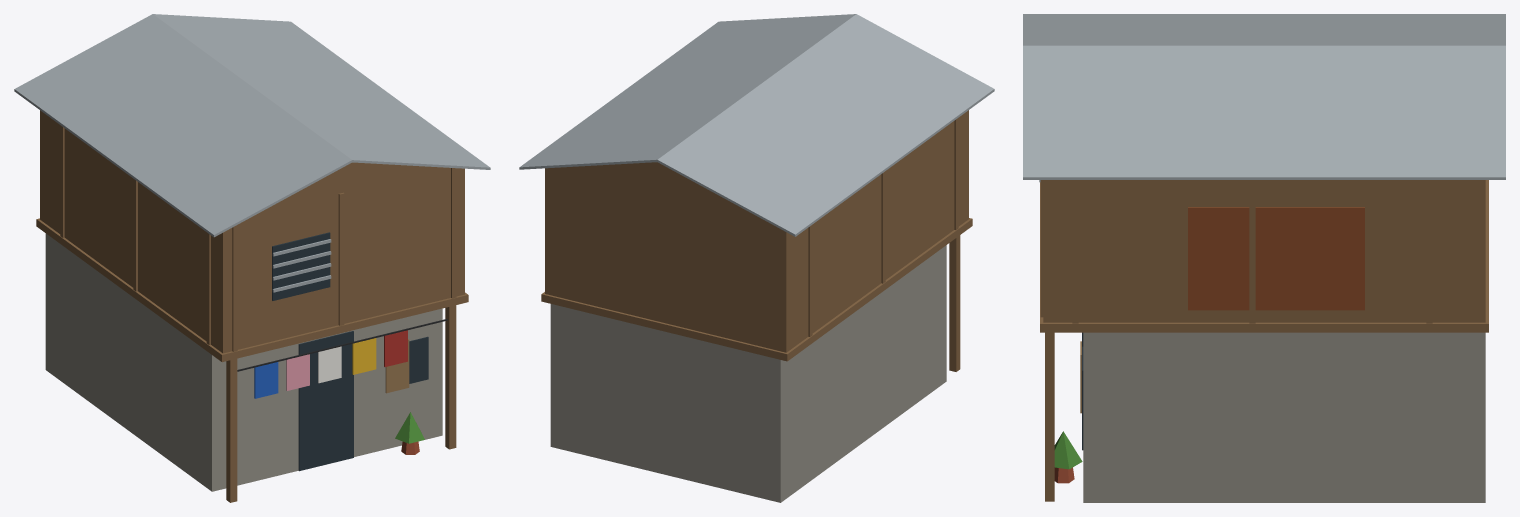
File: BAY_I_Shanty2F_P.glb
3 renders of one model, left to right at view 1: azimuth 30°, elevation 25°; view 2: azimuth 150°, elevation 25°; view 3: azimuth 270°, elevation 25°, orthographic. The views are drawn at different scales.
Visible parts, largest first — view 1: BAY_I_Shanty2F_P; view 2: BAY_I_Shanty2F_P; view 3: BAY_I_Shanty2F_P.
Boxes of the visible parts, x1,y1,x2,y2 form: BAY_I_Shanty2F_P: (14, 14, 490, 502); BAY_I_Shanty2F_P: (519, 14, 994, 502); BAY_I_Shanty2F_P: (1023, 14, 1505, 502).
Size of the model in its own units: 4.8 by 5.34 by 6.
1 material, 1 textured.
